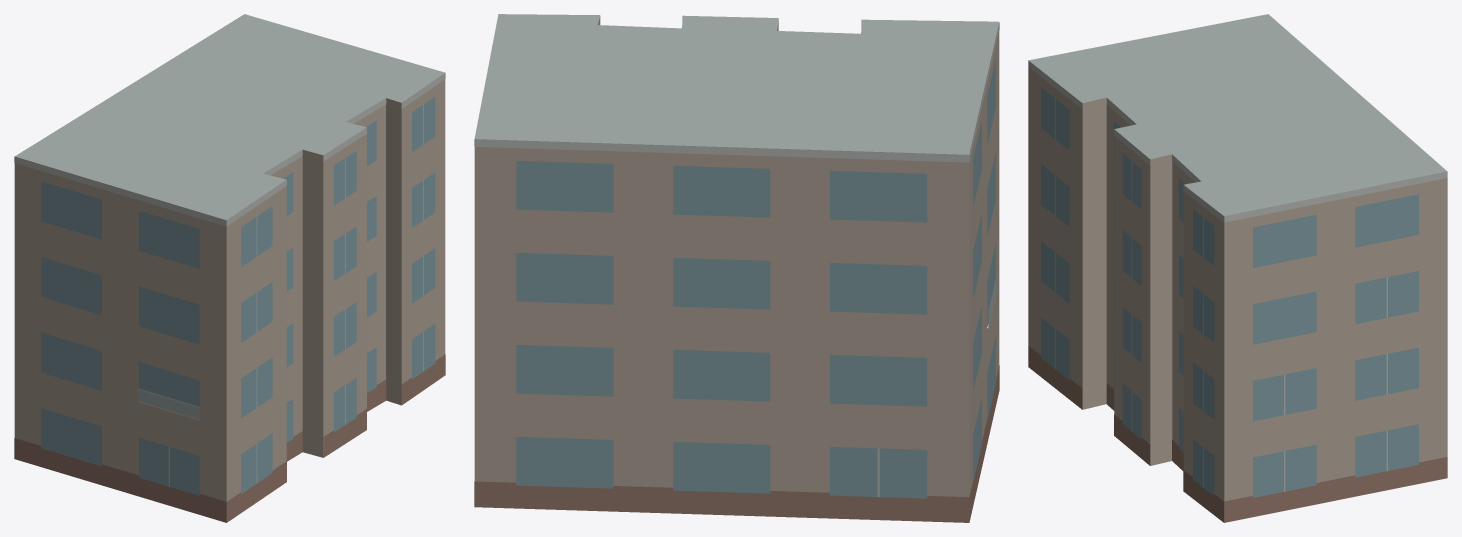
File: survey-upis-32748062.glb
The picture shows the model from 3 angles, left to right: view 1: azimuth 30°, elevation 25°; view 2: azimuth 150°, elevation 25°; view 3: azimuth 270°, elevation 25°; orthographic projection. The views are drawn at different scales.
Parts seen in each view (by area): view 1: survey-upis-32748062.tmp; view 2: survey-upis-32748062.tmp; view 3: survey-upis-32748062.tmp.
Part boxes in pixels (box(x1,y1,x2,y2)): survey-upis-32748062.tmp: box(14, 14, 445, 522); survey-upis-32748062.tmp: box(474, 14, 999, 522); survey-upis-32748062.tmp: box(1028, 14, 1447, 522).
Size of the model in its own units: 16.42 by 11.6 by 14.39.
